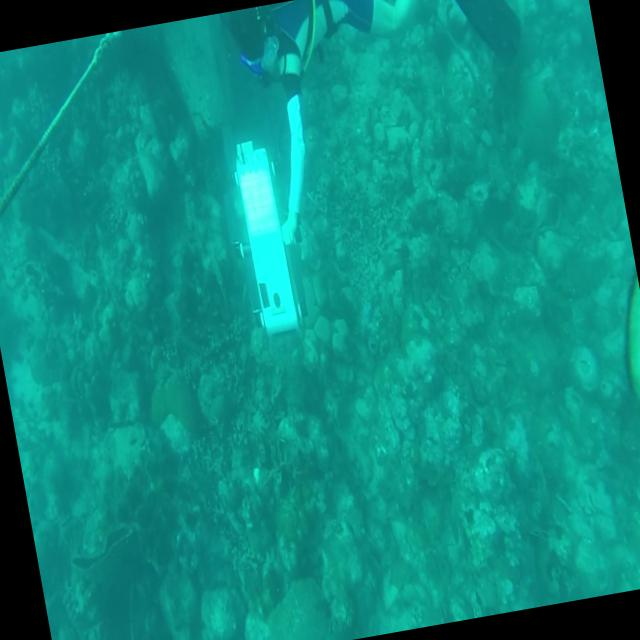human: (215, 0, 552, 252)
